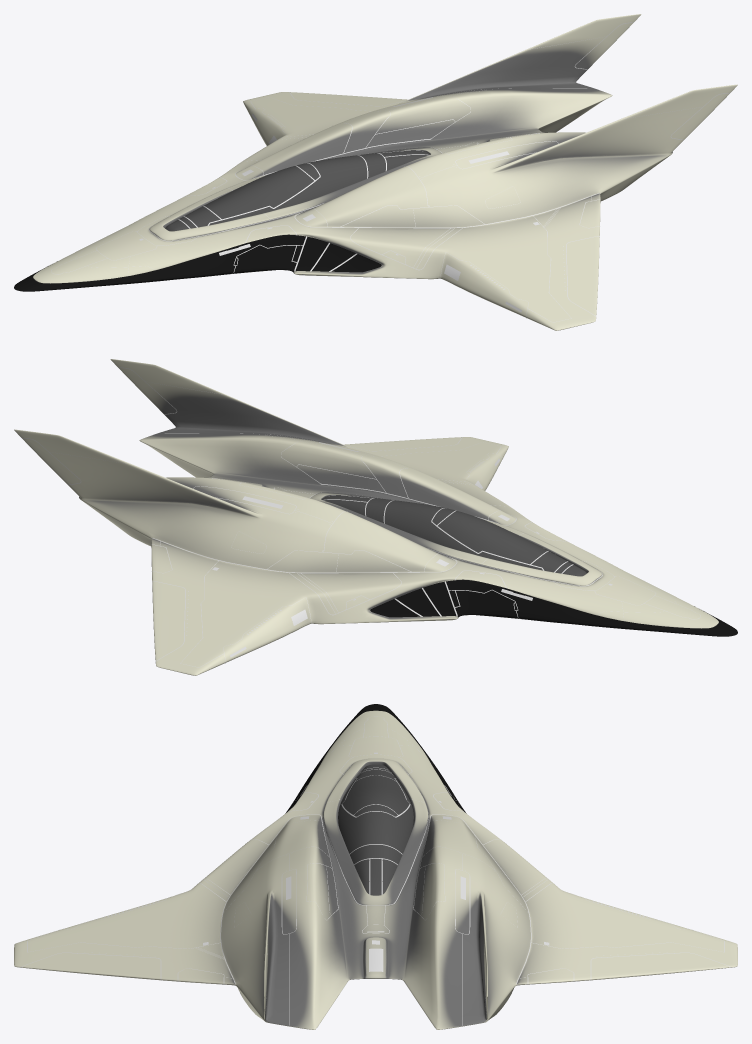
File: Space_Ship.fbx
The picture shows the model from 3 angles, top to bottom: view 1: azimuth 30°, elevation 25°; view 2: azimuth 150°, elevation 25°; view 3: azimuth 270°, elevation 25°; orthographic projection. The views are drawn at different scales.
Parts seen in each view (by area): view 1: Jet, Canopy, Space Jet Atlas; view 2: Jet, Canopy, Space Jet Atlas; view 3: Jet, Canopy, Space Jet Atlas.
Boxes of the visible parts, left/top/right/bottom form: Jet: left=14, top=14, right=737, bottom=330; Canopy: left=165, top=150, right=430, bottom=231; Space Jet Atlas: left=51, top=22, right=730, bottom=322; Jet: left=14, top=359, right=737, bottom=675; Canopy: left=321, top=495, right=586, bottom=576; Space Jet Atlas: left=21, top=367, right=700, bottom=667; Jet: left=14, top=704, right=737, bottom=1029; Canopy: left=338, top=764, right=413, bottom=895; Space Jet Atlas: left=21, top=716, right=730, bottom=1025.
Bounding box in the file's own units: 1587 × 238 × 1278.
